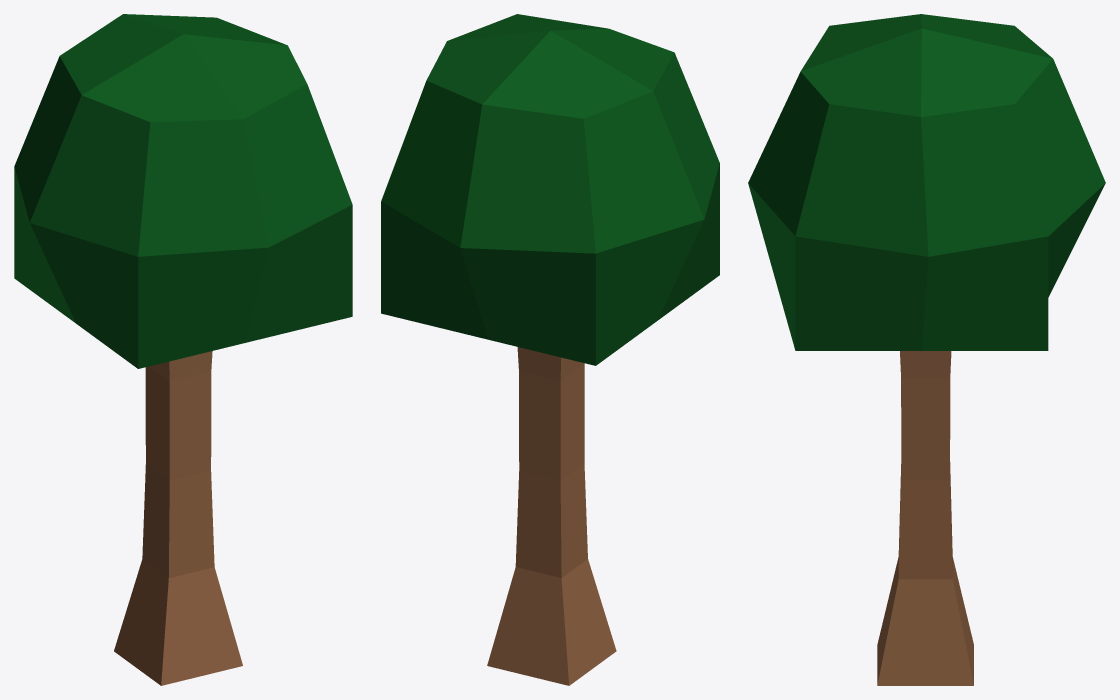
Rendered from tree_45.glb.
The picture shows the model from 3 angles, left to right: view 1: azimuth 30°, elevation 25°; view 2: azimuth 150°, elevation 25°; view 3: azimuth 270°, elevation 25°; orthographic projection. The views are drawn at different scales.
Parts seen in each view (by area): view 1: body; view 2: body; view 3: body.
Part boxes in pixels (x1,y1,x2,y2): body: (14,14,352,685); body: (381,14,719,685); body: (748,14,1105,685).
Bounding box in the file's own units: 0.7027 × 1.44 × 0.7332.
